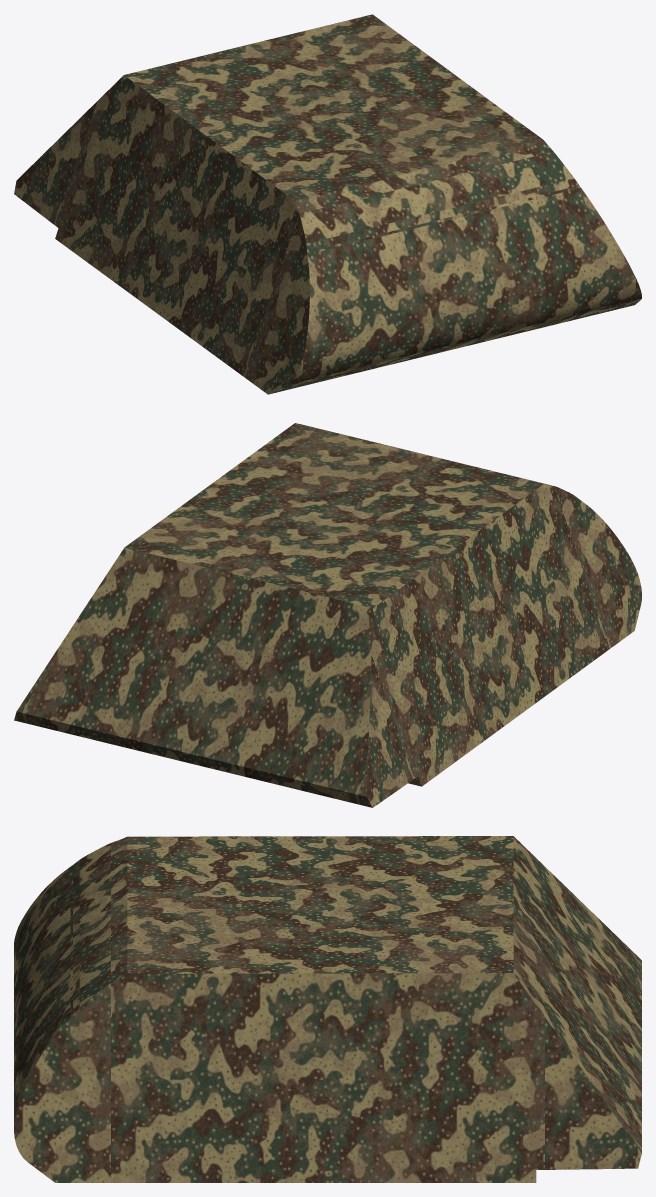
Rendered from Turret.fbx.
3 renders of one model, top to bottom at view 1: azimuth 30°, elevation 25°; view 2: azimuth 150°, elevation 25°; view 3: azimuth 270°, elevation 25°, orthographic. The views are drawn at different scales.
Visible parts, largest first — view 1: Turret; view 2: Turret; view 3: Turret.
Part boxes in pixels (left/top/right/bottom): Turret: left=14, top=14, right=641, bottom=394; Turret: left=14, top=423, right=641, bottom=807; Turret: left=14, top=836, right=641, bottom=1182.
Bounding box in the file's own units: 29.5 × 12.05 × 38.71.
